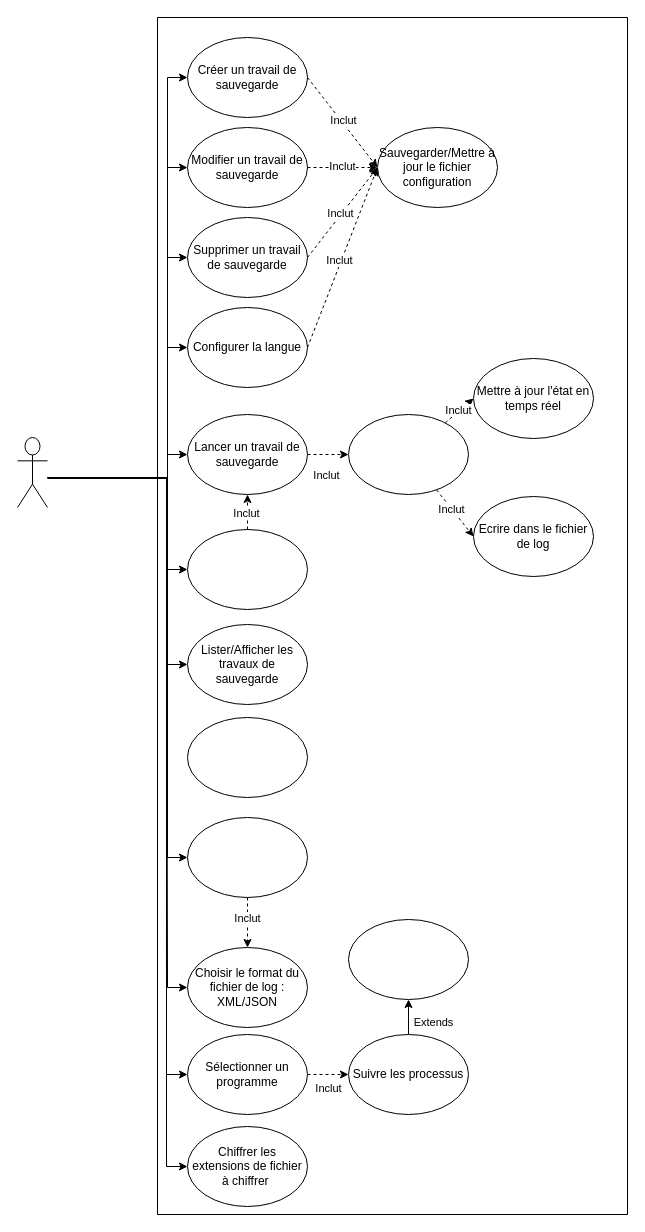
Some shapes in this 645 by 1232 pixel diagram are drawn without their labels. Here are the shapes that lost their labels. From the top down, the centre of each, then its label:
At (x=32, y=472): "User".
At (x=408, y=454): "Exécution des travaux de sauvegarde".
At (x=247, y=569): "Lancer plusieurs travaux séquentiels".
At (x=247, y=757): "Afficher l'état d'un travail de sauvegarde".
At (x=247, y=857): "Afficher le fichier de log des sauvegardes".
At (x=408, y=959): "Arrêter les travaux de sauvegarde".
